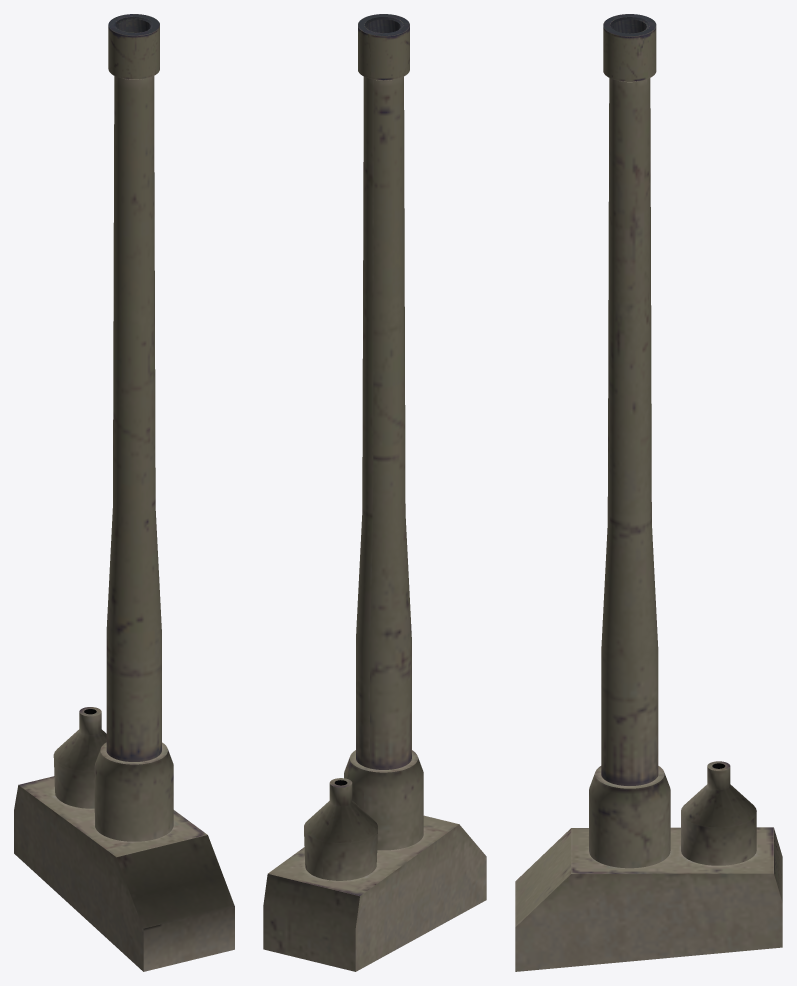
Rendered from Gun_05.glb.
The picture shows the model from 3 angles, left to right: view 1: azimuth 30°, elevation 25°; view 2: azimuth 150°, elevation 25°; view 3: azimuth 270°, elevation 25°; orthographic projection. The views are drawn at different scales.
Parts seen in each view (by area): view 1: set_0_group_0; view 2: set_0_group_0; view 3: set_0_group_0.
Part boxes in pixels (<box>): set_0_group_0: <box>14,14,234,971</box>; set_0_group_0: <box>263,14,486,971</box>; set_0_group_0: <box>515,14,782,971</box>.
Bounding box in the file's own units: 0.1737 × 1.63 × 0.4261.
Materials: 1 (1 with a texture image).
